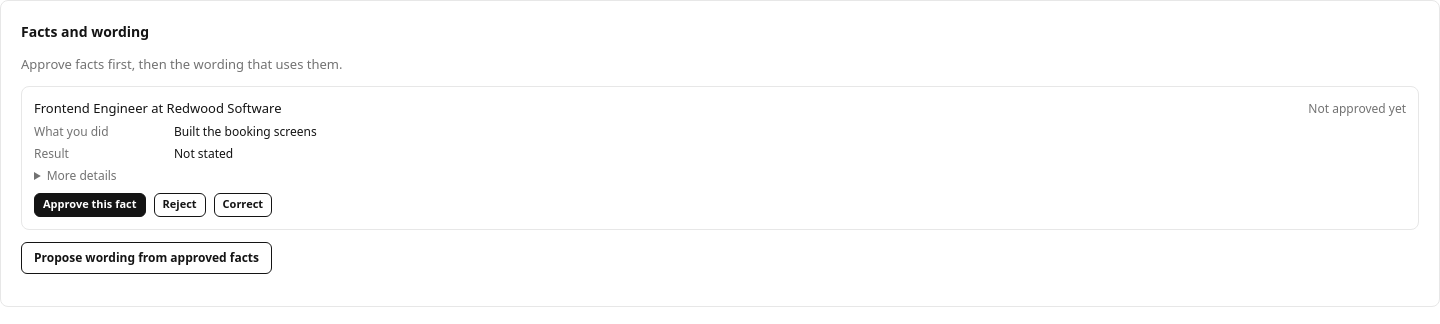
Test: EvidenceReview (#419, step 7) › approves a fact only when the candidate asks, and rejects on request
Click the button "Approve this fact" at (90, 205), box x1=34 y1=193 x2=146 y2=217
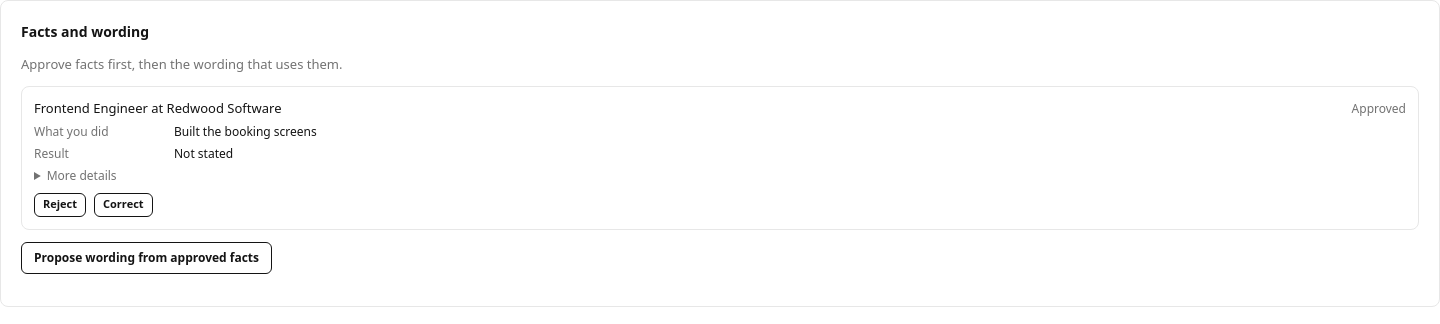
Check: the text "Approved" is shown, box x1=1352 y1=100 x2=1406 y2=118
Click the button "Reject" at (60, 205), box x1=34 y1=193 x2=86 y2=217
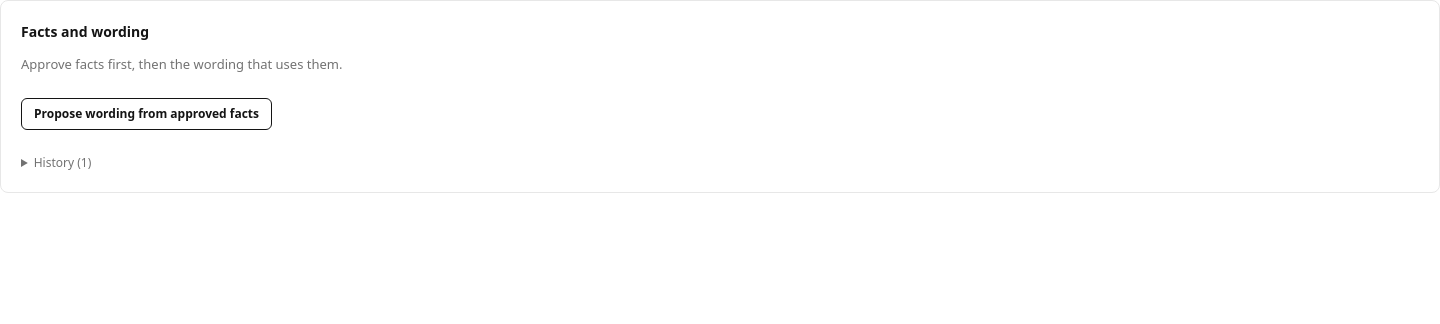
Check: the heading "History (1)" is shown, box x1=34 y1=154 x2=91 y2=171
